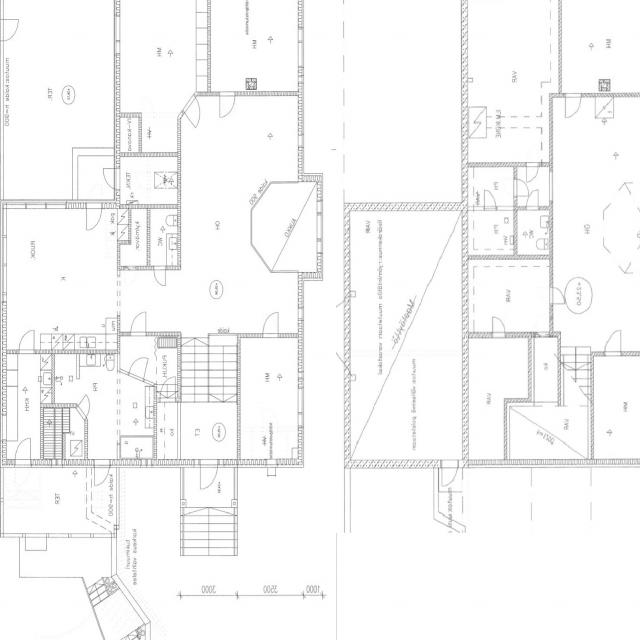door: (182, 94, 206, 127), (128, 352, 148, 382), (201, 459, 217, 490), (442, 460, 458, 490), (94, 458, 110, 488), (15, 437, 31, 467), (86, 200, 102, 230), (99, 168, 120, 190), (566, 93, 582, 120), (76, 395, 94, 419), (605, 330, 621, 356), (220, 91, 235, 117), (160, 376, 175, 402), (131, 310, 146, 336), (263, 312, 278, 338), (20, 328, 34, 354), (513, 179, 530, 196), (493, 314, 505, 338), (526, 190, 538, 210), (484, 190, 496, 210), (154, 266, 166, 286), (527, 162, 538, 182), (550, 288, 564, 303)
